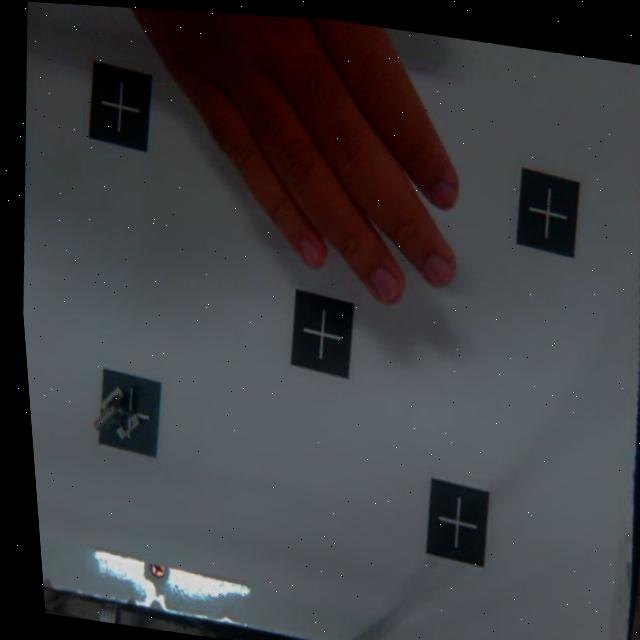pick1: (92, 370, 162, 453)
